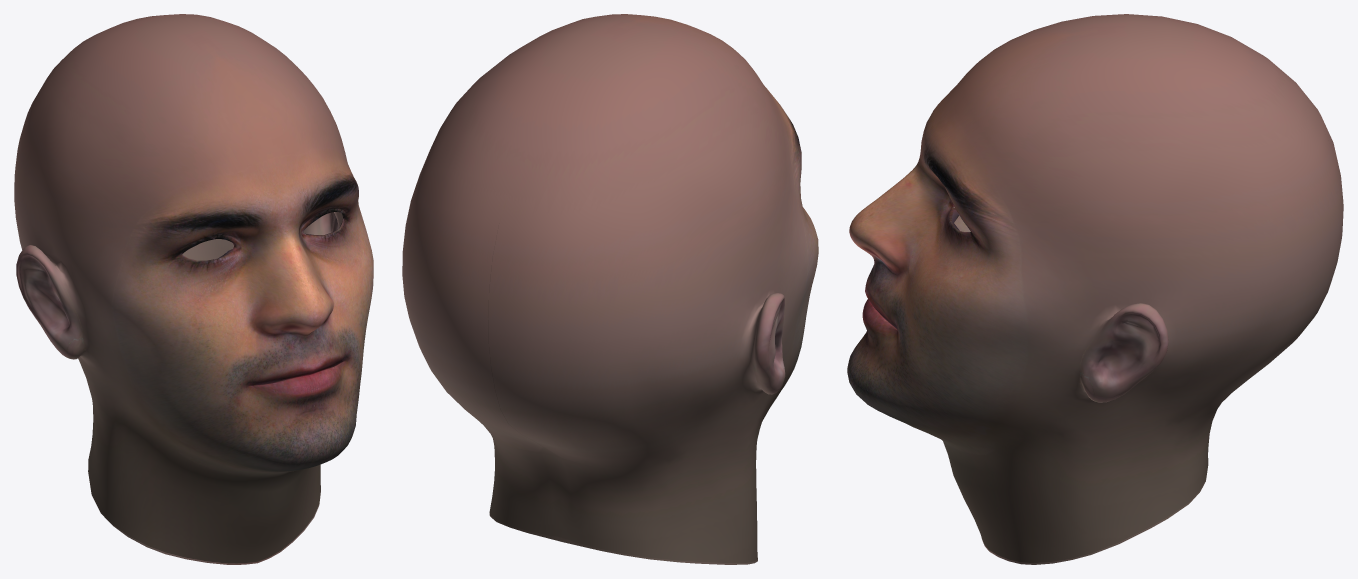
The picture shows the model from 3 angles, left to right: view 1: azimuth 30°, elevation 25°; view 2: azimuth 150°, elevation 25°; view 3: azimuth 270°, elevation 25°; orthographic projection. The views are drawn at different scales.
Visible parts, largest first — view 1: FaceGen; view 2: FaceGen; view 3: FaceGen.
Boxes of the visible parts, x1=… form: FaceGen: x1=14, y1=14, x2=373, y2=564; FaceGen: x1=402, y1=14, x2=818, y2=564; FaceGen: x1=847, y1=14, x2=1343, y2=564.
Bounding box in the file's own units: 193 × 280 × 246.
Materials: 1 (1 with a texture image).
